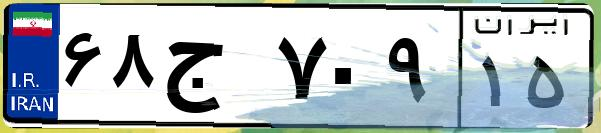0: (330, 28, 385, 110)
1: (475, 38, 525, 113)
5: (525, 38, 570, 115)
6: (57, 26, 110, 100)
7: (270, 28, 330, 110)
8: (110, 28, 158, 98)
9: (385, 28, 445, 110)
ج: (158, 20, 270, 120)
